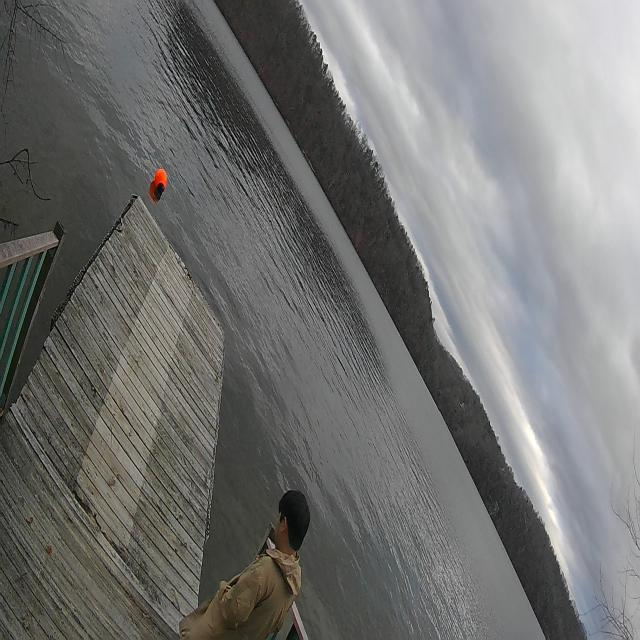Buoy: (152, 166, 169, 194)
